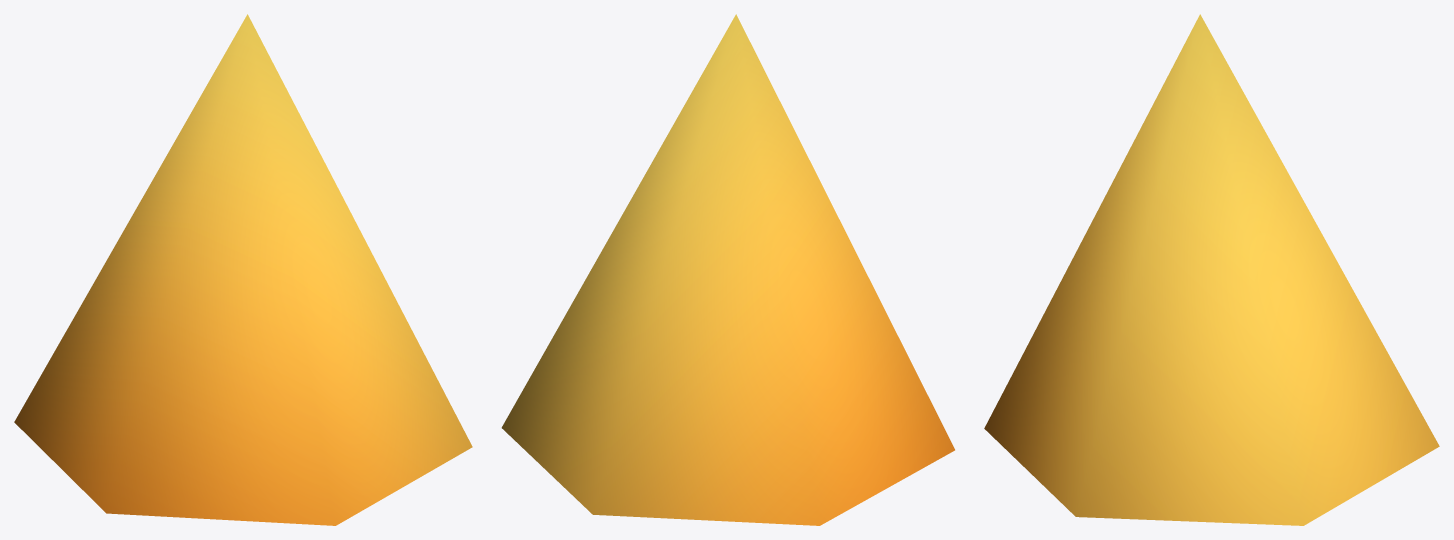
The model's file is Projectile.FBX.
3 renders of one model, left to right at view 1: azimuth 30°, elevation 25°; view 2: azimuth 150°, elevation 25°; view 3: azimuth 270°, elevation 25°, orthographic.
Visible parts, largest first — view 1: Projectile; view 2: Projectile; view 3: Projectile.
Boxes of the visible parts, box(x1,y1,x2,y2) form: Projectile: box(14, 14, 472, 525); Projectile: box(501, 14, 954, 525); Projectile: box(984, 14, 1439, 525).
Bounding box in the file's own units: 15.82 × 17.15 × 17.63.
Materials: 1 (1 with a texture image).
